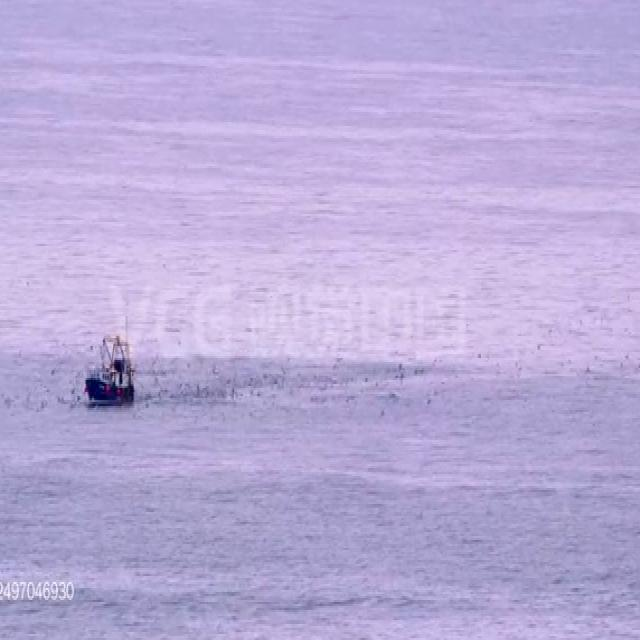houseboat: (81, 332, 136, 402)
